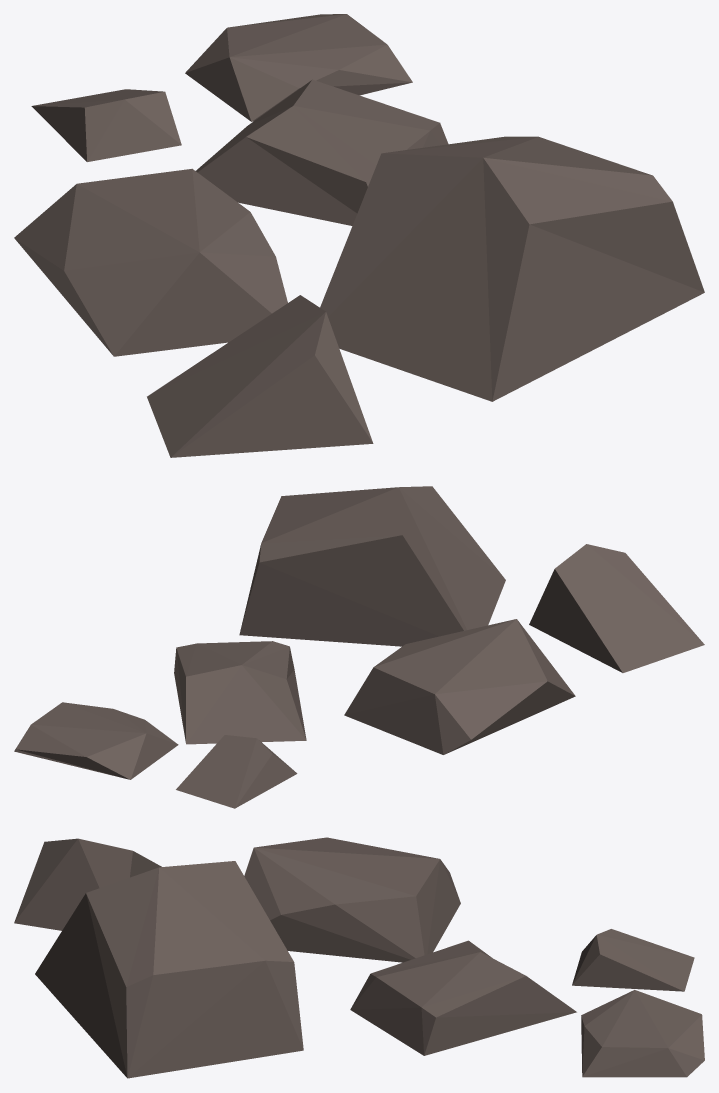
File: RAS_Stone02.fbx
3 views of the same model, one above another, from view 1: azimuth 30°, elevation 25°; view 2: azimuth 150°, elevation 25°; view 3: azimuth 270°, elevation 25° (orthographic). The views are drawn at different scales.
Parts seen in each view (by area): view 1: RAS_Stone02; view 2: RAS_Stone02; view 3: RAS_Stone02.
Part boxes in pixels (box(x1,y1,x2,y2)): RAS_Stone02: box(14, 14, 704, 457); RAS_Stone02: box(14, 486, 704, 808); RAS_Stone02: box(14, 837, 704, 1078).
Size of the model in its own units: 36.83 by 10.46 by 49.03.
Materials: 1 (1 with a texture image).
